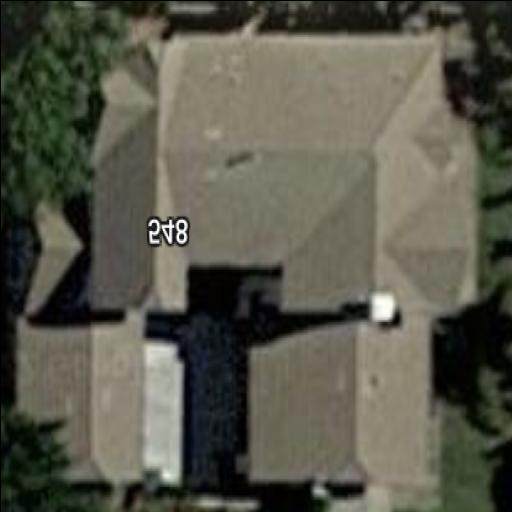TreeShading-Slope-Roof: (17, 34, 478, 484)
